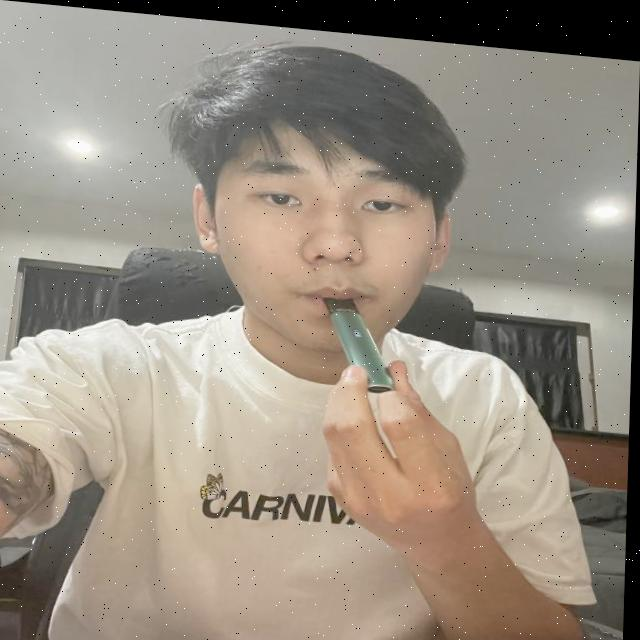vape: (322, 287, 402, 387)
